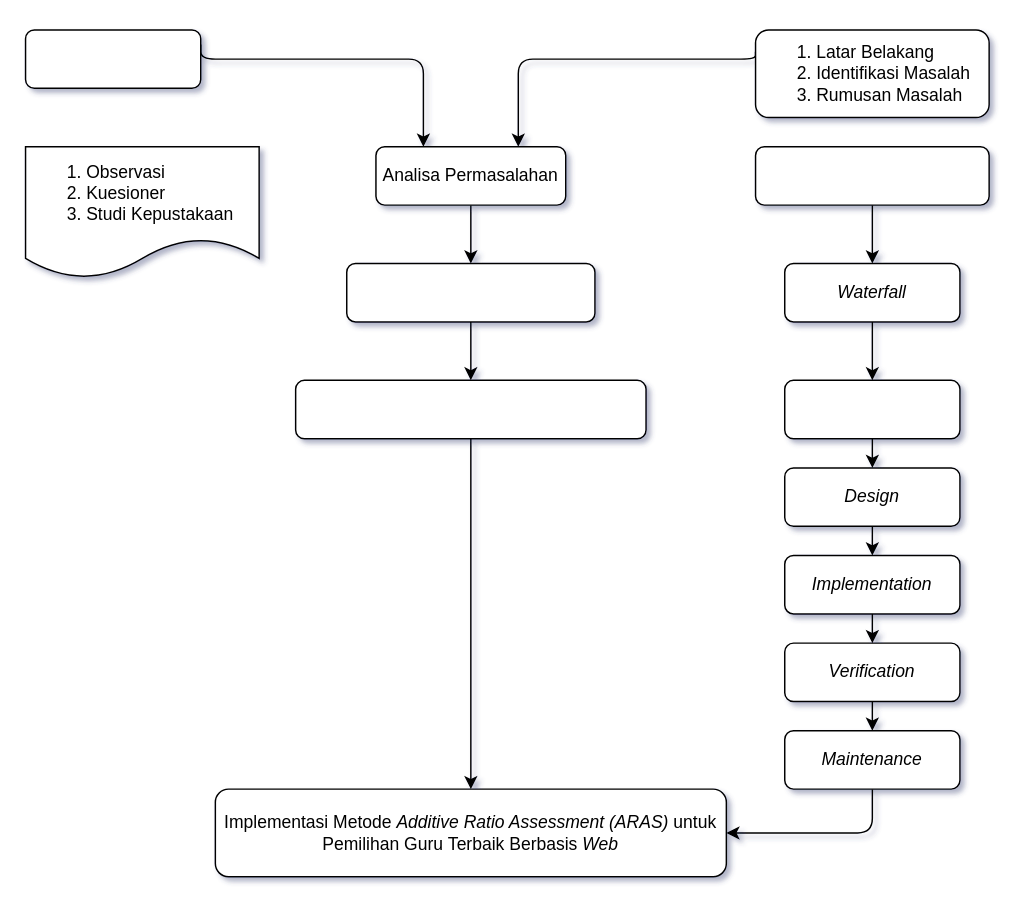
Some shapes in this 1023 by 911 pixel diagram are drawn without their labels. Each missing label, with the centre of its shape:
Implementasi Metode Additive Ratio Assessment (ARAS): (470,409)
Metode Pengembangan Sistem: (871,175)
Pengumpulan Data: (112,58)
Requirements: (871,409)
Sistem Penunjang Keputusan: (470,292)
